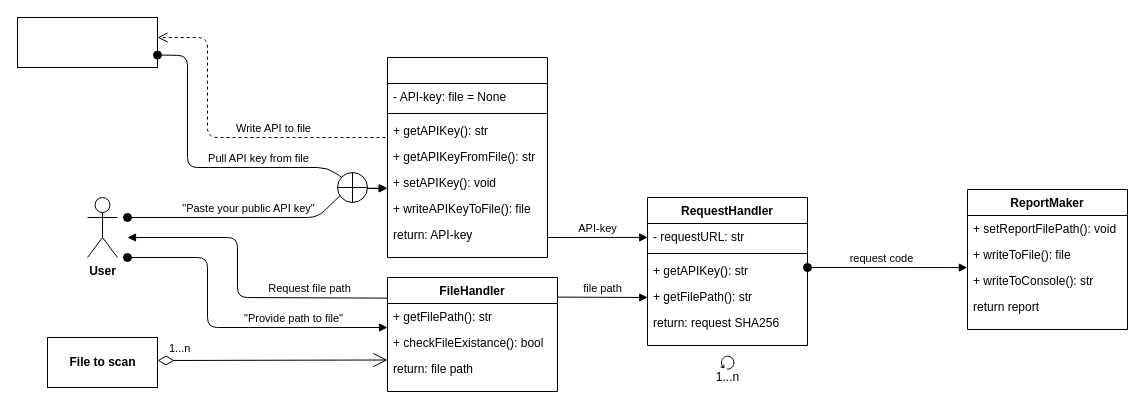
Some shapes in this 1145 by 412 pixel diagram are drawn without their labels. Each missing label, with the box of its shape:
APIHandler: (386, 56, 548, 258)
File VirusTotal_API_key.txt: (16, 16, 158, 68)
